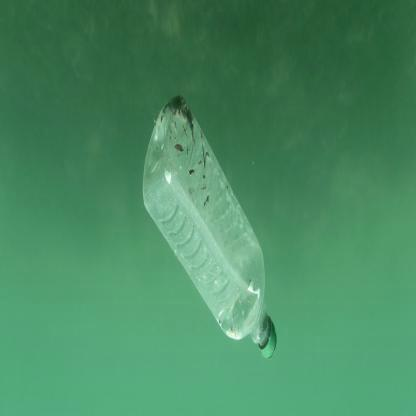Plastic: (138, 92, 282, 365)
